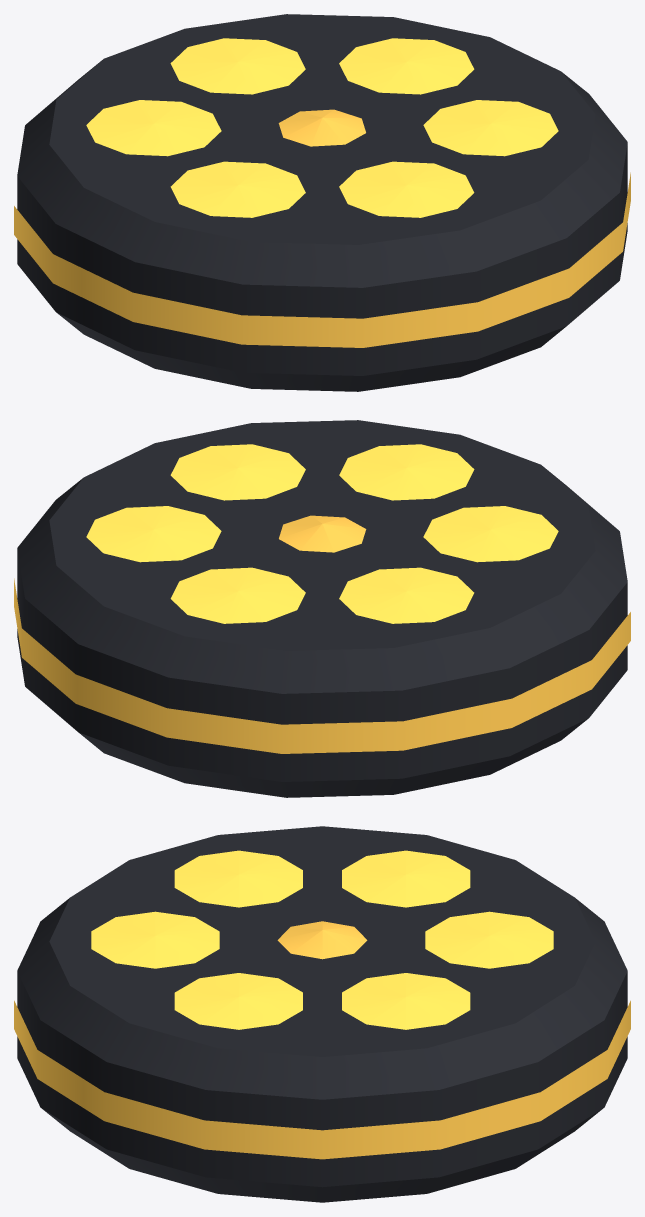
The model's file is tb_chambers_0.glb.
3 views of the same model, one above another, from view 1: azimuth 30°, elevation 25°; view 2: azimuth 150°, elevation 25°; view 3: azimuth 270°, elevation 25° (orthographic).
Visible parts, largest first — view 1: tb_chambers_0; view 2: tb_chambers_0; view 3: tb_chambers_0.
Part boxes in pixels (x1,y1,x2,y2): tb_chambers_0: [14, 14, 630, 391]; tb_chambers_0: [14, 420, 630, 797]; tb_chambers_0: [14, 826, 630, 1202].
Size of the model in its own units: 0.192 by 0.054 by 0.192.
